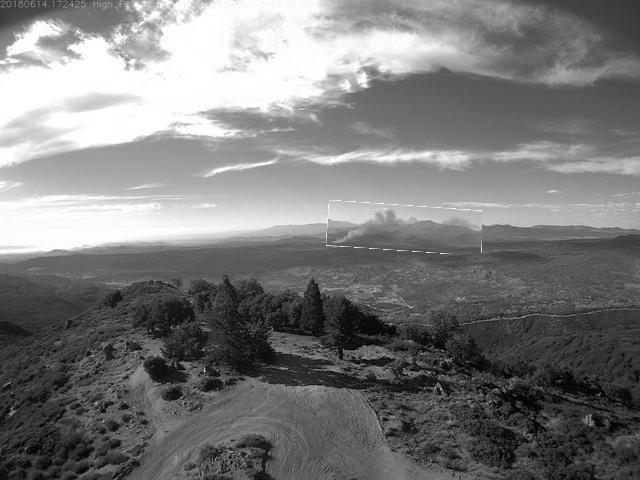smoke: (328, 204, 484, 254)
